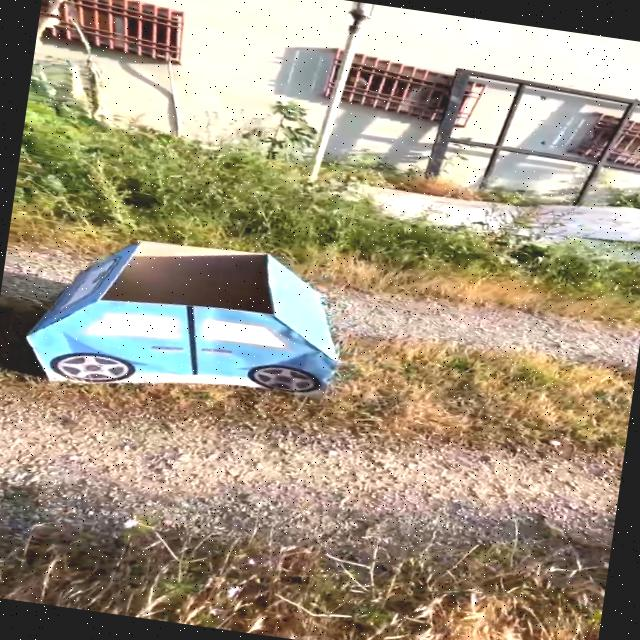blue_car: (0, 189, 395, 455)
